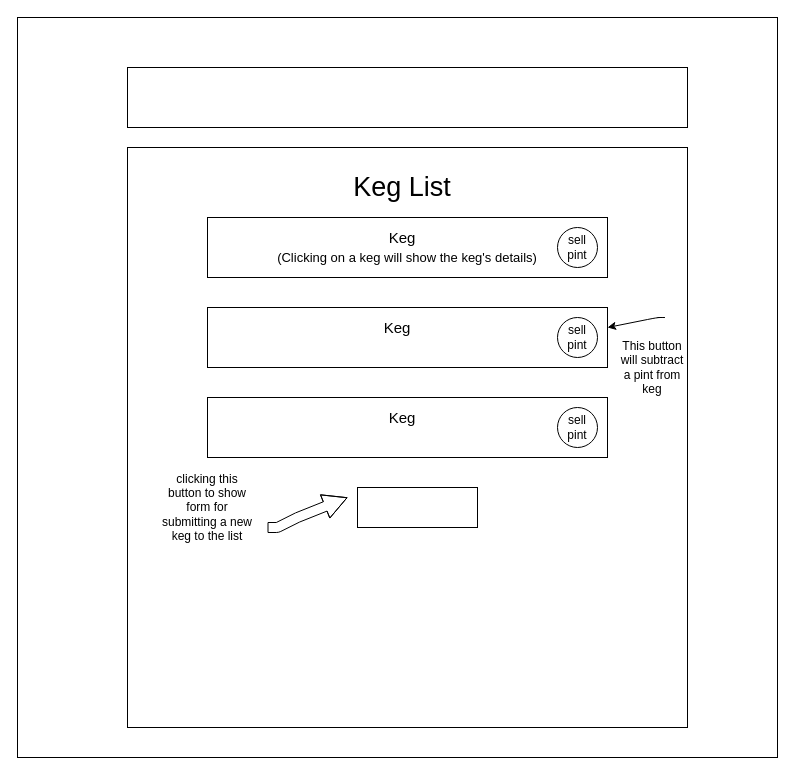
This 795x775 diagram has some shape labels left out. The box of each missing label's shape, as (x1, y1, x2, y2) in pixels:
Add Keg: (356, 486, 478, 528)
Header: (126, 66, 688, 128)
